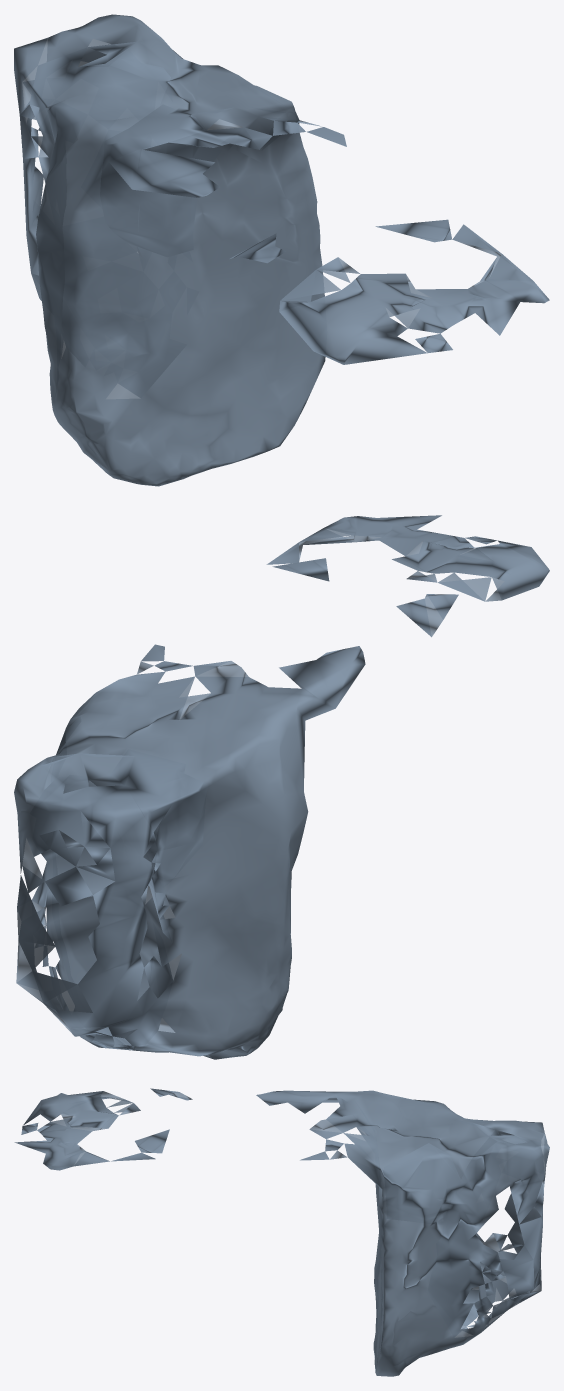
Rendered from toilet_0234_recon.obj.
3 views of the same model, one above another, from view 1: azimuth 30°, elevation 25°; view 2: azimuth 150°, elevation 25°; view 3: azimuth 270°, elevation 25° (orthographic). The views are drawn at different scales.
Bounding box in the file's own units: 0.5684 × 0.7658 × 1.55.
